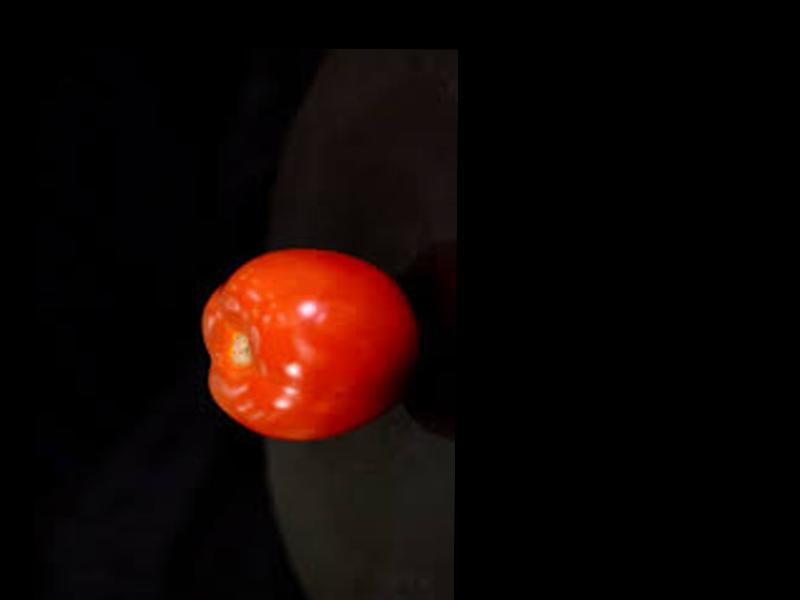Tomato: (200, 245, 414, 440)
